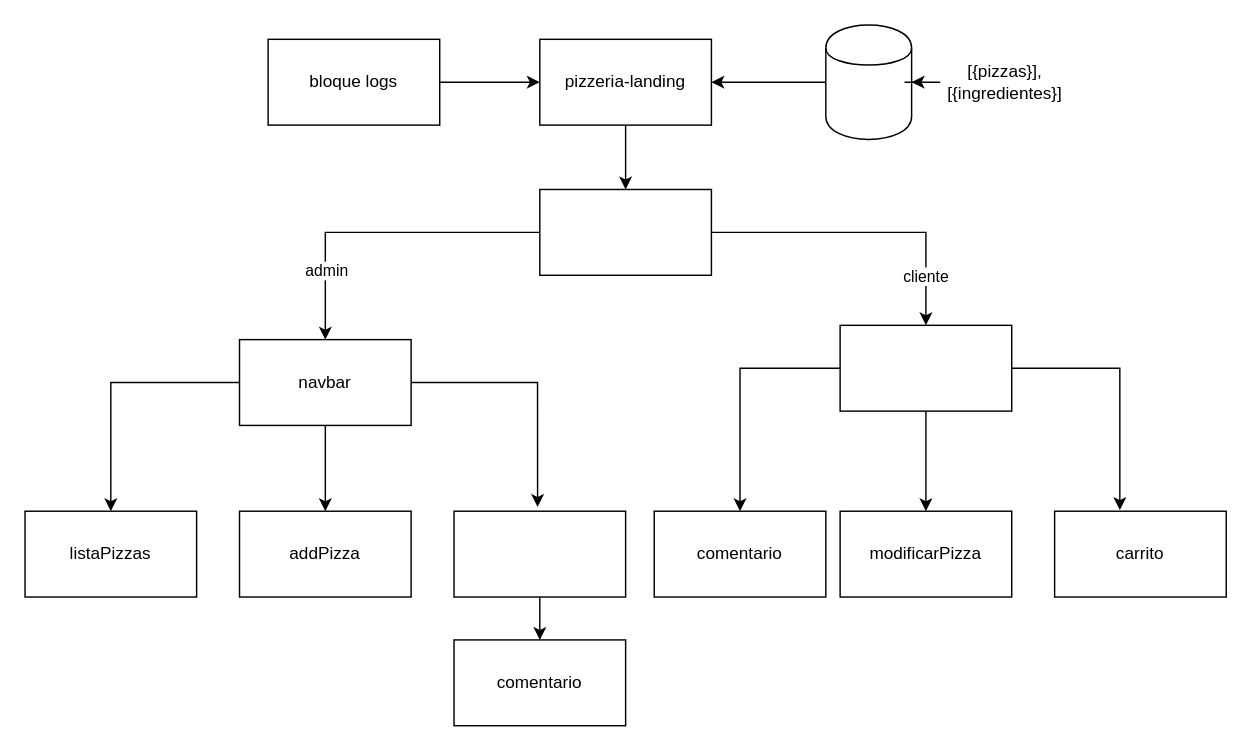
Some shapes in this 1251 by 751 pixel diagram are drawn without their labels. Here are the shapes that lost their labels. From the top down, the centre of each, then its label:
At (868,81): "firestore".
At (624,231): "routes".
At (925,367): "selectorPizzas".
At (539,553): "pizzaCard".
